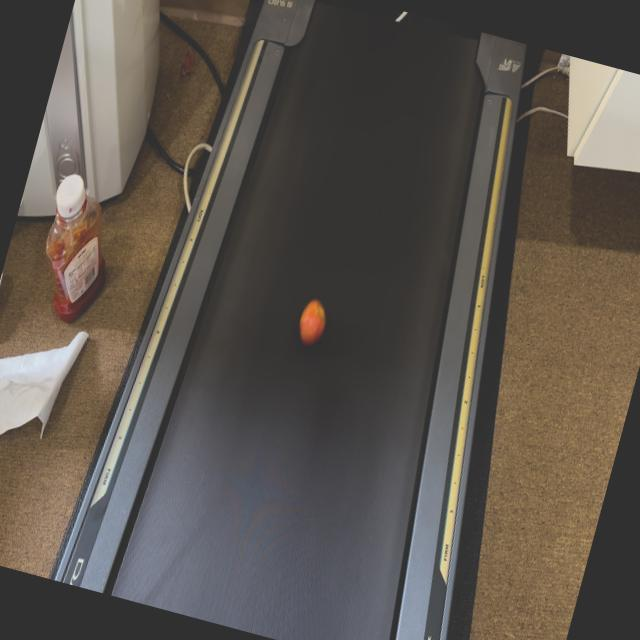Trash: (293, 295, 331, 349)
